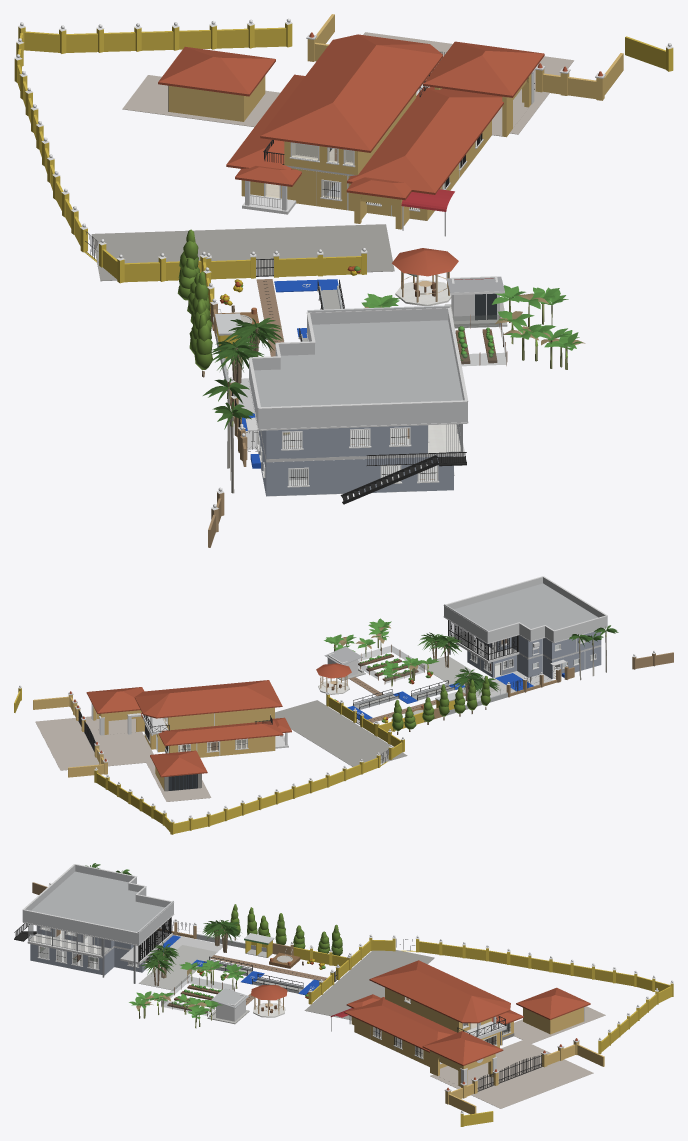
Rendered from residencia-exterior.glb.
The picture shows the model from 3 angles, top to bottom: view 1: azimuth 30°, elevation 25°; view 2: azimuth 150°, elevation 25°; view 3: azimuth 270°, elevation 25°; orthographic projection. The views are drawn at different scales.
Parts seen in each view (by area): view 1: sitio_obj.001, gris_p99_techo.001, amarilla_p2_obj.001, amarilla_p99_techo.001, amarilla_p1_obj.001, amarilla_p1_muro.001, amarilla_p1_cielo.001, gris_p1_muro.001, gris_p2_muro.001, gris_p2_obj.001, gris_p1_obj.001, amarilla_p2_muro.001; view 2: sitio_obj.001, gris_p99_techo.001, amarilla_p1_obj.001, amarilla_p99_techo.001, amarilla_p2_obj.001, amarilla_p1_muro.001, gris_p1_muro.001, gris_p2_obj.001, amarilla_p1_cielo.001, gris_p1_obj.001, amarilla_p2_muro.001, gris_p2_muro.001; view 3: sitio_obj.001, gris_p99_techo.001, amarilla_p1_obj.001, amarilla_p2_obj.001, amarilla_p99_techo.001, amarilla_p1_muro.001, gris_p2_obj.001, gris_p1_muro.001, amarilla_p1_cielo.001, gris_p1_obj.001, amarilla_p2_muro.001, gris_p2_muro.001.
Boxes of the visible parts, bbox=[...] form: sitio_obj.001: bbox=[14, 18, 673, 547]; gris_p99_techo.001: bbox=[248, 305, 468, 430]; amarilla_p2_obj.001: bbox=[226, 41, 544, 200]; amarilla_p99_techo.001: bbox=[260, 34, 442, 152]; amarilla_p1_obj.001: bbox=[122, 32, 605, 236]; amarilla_p1_muro.001: bbox=[168, 14, 623, 220]; amarilla_p1_cielo.001: bbox=[158, 46, 535, 186]; gris_p1_muro.001: bbox=[257, 430, 453, 496]; gris_p2_muro.001: bbox=[261, 425, 427, 459]; gris_p2_obj.001: bbox=[260, 424, 466, 466]; gris_p1_obj.001: bbox=[238, 378, 454, 504]; amarilla_p2_muro.001: bbox=[284, 93, 416, 174]; sitio_obj.001: bbox=[14, 618, 673, 834]; gris_p99_techo.001: bbox=[443, 576, 607, 643]; amarilla_p1_obj.001: bbox=[35, 691, 288, 801]; amarilla_p99_techo.001: bbox=[134, 680, 282, 718]; amarilla_p2_obj.001: bbox=[86, 687, 283, 746]; amarilla_p1_muro.001: bbox=[33, 696, 275, 791]; gris_p1_muro.001: bbox=[467, 646, 601, 678]; gris_p2_obj.001: bbox=[447, 620, 601, 663]; amarilla_p1_cielo.001: bbox=[99, 713, 291, 777]; gris_p1_obj.001: bbox=[449, 621, 596, 701]; amarilla_p2_muro.001: bbox=[163, 708, 269, 730]; gris_p2_muro.001: bbox=[478, 631, 601, 658]; sitio_obj.001: bbox=[32, 863, 673, 1126]; gris_p99_techo.001: bbox=[22, 864, 174, 945]; amarilla_p1_obj.001: bbox=[330, 1006, 605, 1108]; amarilla_p2_obj.001: bbox=[344, 994, 523, 1065]; amarilla_p99_techo.001: bbox=[369, 960, 510, 1023]; amarilla_p1_muro.001: bbox=[354, 1007, 604, 1114]; gris_p2_obj.001: bbox=[14, 917, 172, 964]; gris_p1_muro.001: bbox=[30, 944, 162, 975]; amarilla_p1_cielo.001: bbox=[460, 987, 590, 1070]; gris_p1_obj.001: bbox=[21, 931, 222, 983]; amarilla_p2_muro.001: bbox=[385, 987, 491, 1032]; gris_p2_muro.001: bbox=[37, 925, 133, 949].
Bounding box in the file's own units: 75.84 × 8.11 × 90.16.
77 materials, 10 textured.
